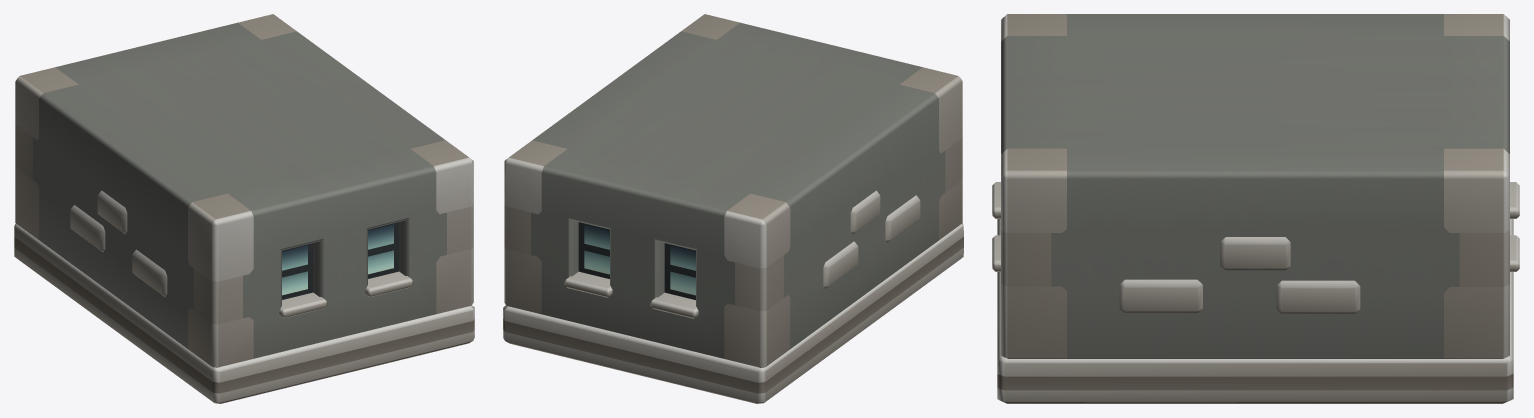
Rendered from appartment_type1_x3_element_grey.fbx.
3 views of the same model, side by side, from view 1: azimuth 30°, elevation 25°; view 2: azimuth 150°, elevation 25°; view 3: azimuth 270°, elevation 25° (orthographic). The views are drawn at different scales.
Visible parts, largest first — view 1: appartment_type1_x3_element_grey; view 2: appartment_type1_x3_element_grey; view 3: appartment_type1_x3_element_grey.
Boxes of the visible parts, x1,y1,x2,y2 form: appartment_type1_x3_element_grey: (14, 14, 474, 403); appartment_type1_x3_element_grey: (503, 14, 963, 403); appartment_type1_x3_element_grey: (992, 14, 1519, 403).
Bounding box in the file's own units: 628 × 409 × 839.
